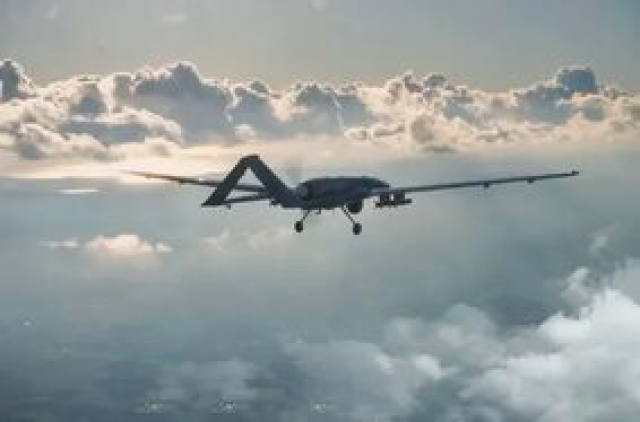military drone: (119, 154, 579, 234)
